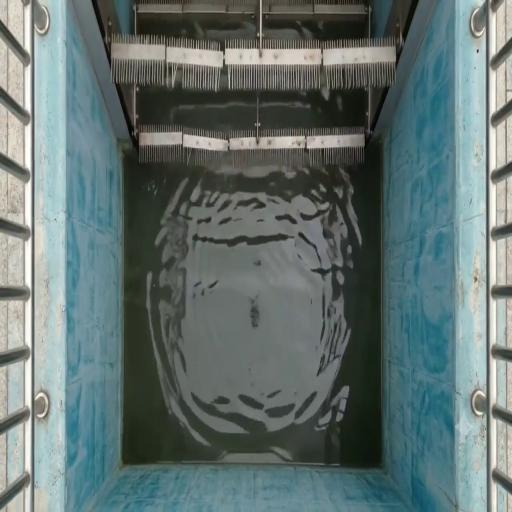rake_broken: (174, 133, 273, 176), (300, 48, 359, 100), (152, 50, 204, 106), (208, 51, 248, 102), (292, 142, 351, 170)
